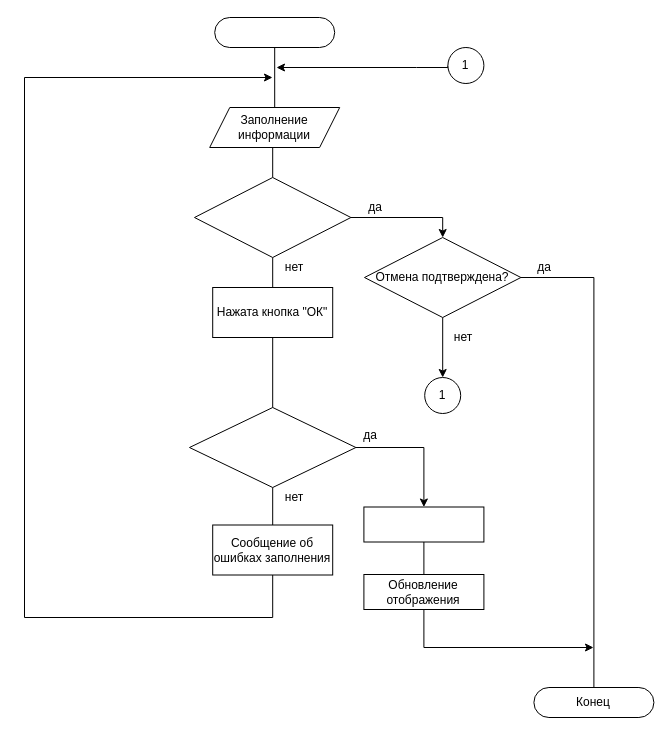
The diagram is 672 pixels wide and 735 high, and some of its shapes have lost their labels. The box of each missing label's shape, as (x1, y1, x2, y2) in pixels:
Добавление (изменение) данных: (363, 506, 484, 542)
Заполненная информация корректна?: (188, 406, 356, 488)
Нажата кнопка отмены или закрытия окна?: (194, 176, 351, 258)
Начало: (214, 16, 335, 48)
